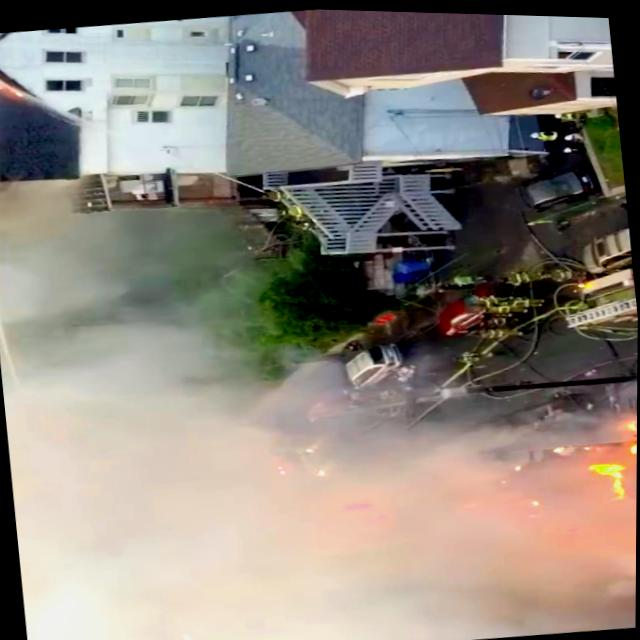fire: (533, 413, 638, 541)
smoke: (5, 375, 516, 640)
